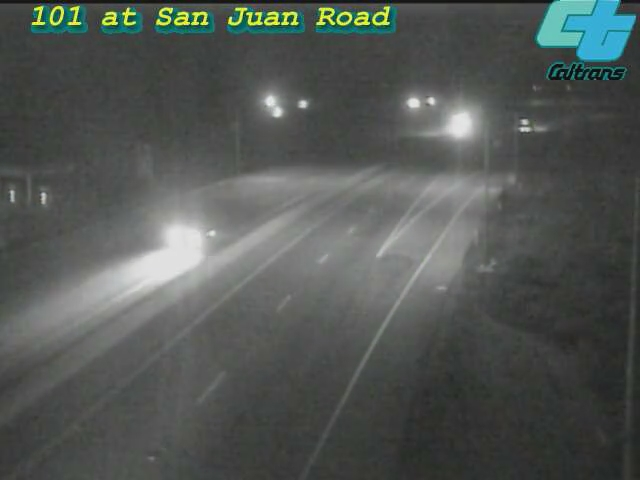vehicle: (155, 193, 235, 273), (430, 99, 480, 149), (503, 100, 553, 150)
